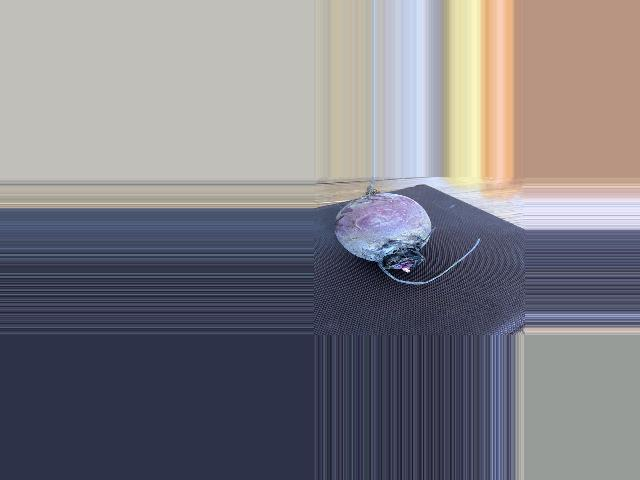beet: (333, 176, 480, 285)
